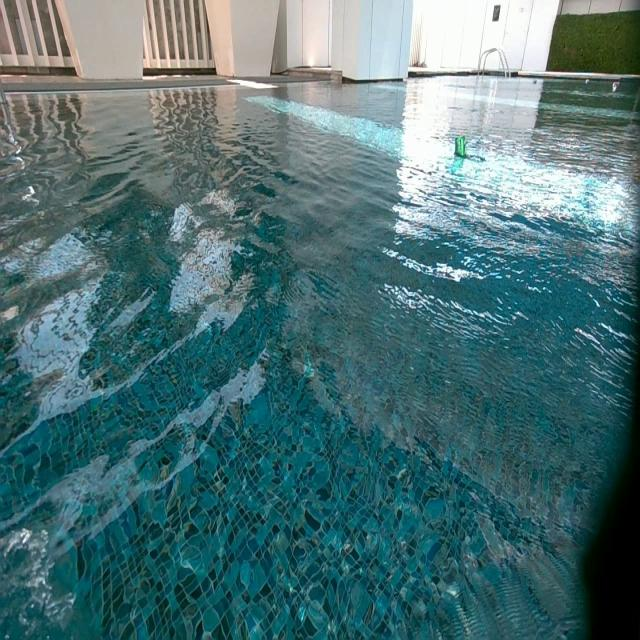Cans: (454, 136, 467, 156), (612, 81, 620, 91), (531, 79, 540, 85), (585, 78, 591, 85)
